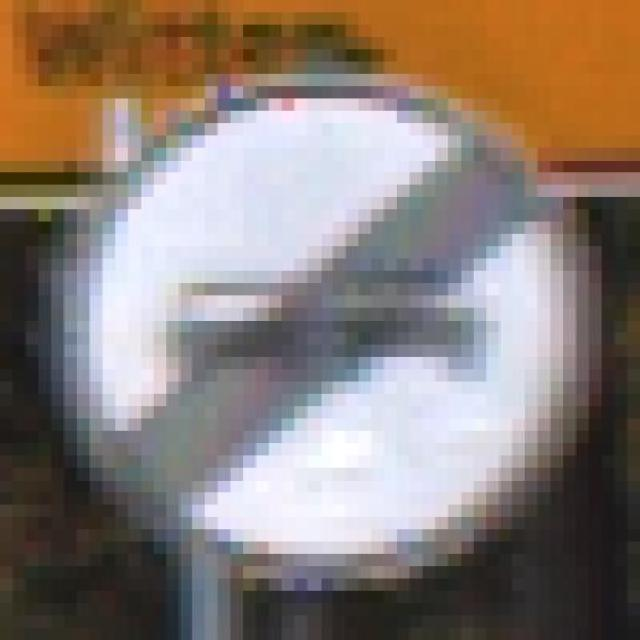No_Over_Taking: (63, 37, 614, 591)
